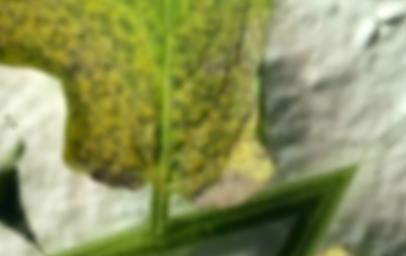Tomato leaf bacterial spot: (24, 0, 378, 256)
